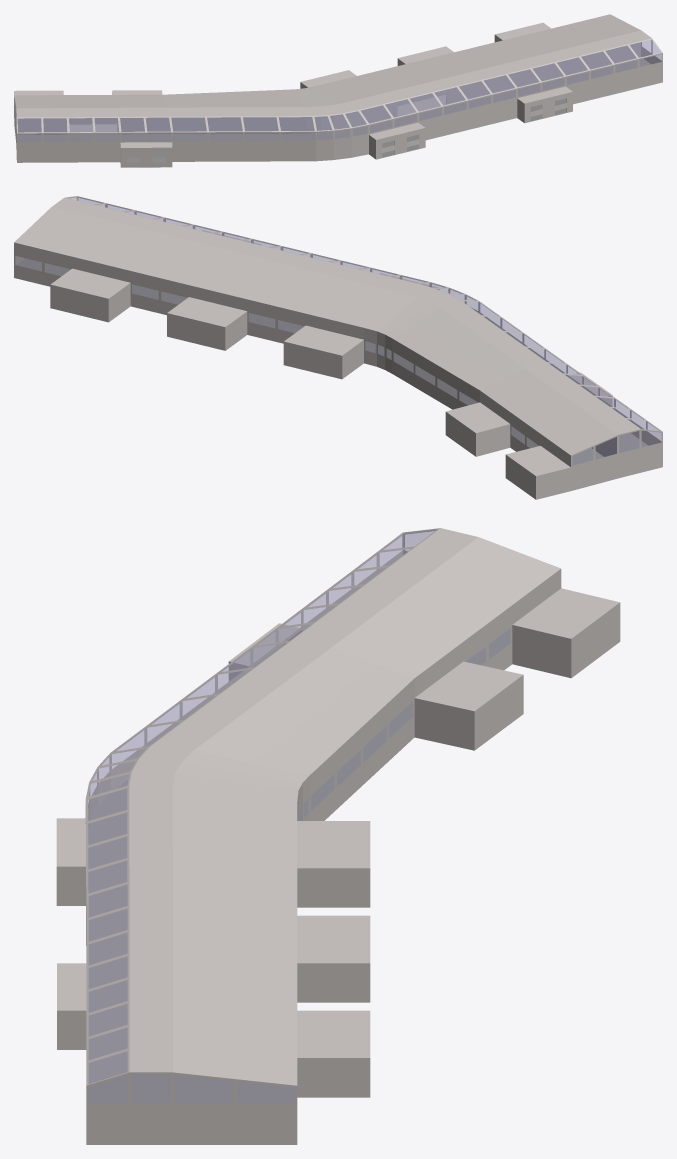
The model's file is terminal.glb.
3 renders of one model, top to bottom at view 1: azimuth 30°, elevation 25°; view 2: azimuth 150°, elevation 25°; view 3: azimuth 270°, elevation 25°, orthographic. The views are drawn at different scales.
Parts seen in each view (by area): view 1: Building; view 2: Building; view 3: Building.
Boxes of the visible parts, x1,y1,x2,y2 form: Building: [14, 14, 662, 167]; Building: [14, 196, 662, 499]; Building: [56, 528, 620, 1144].
Bounding box in the file's own units: 303 × 18.52 × 130.
